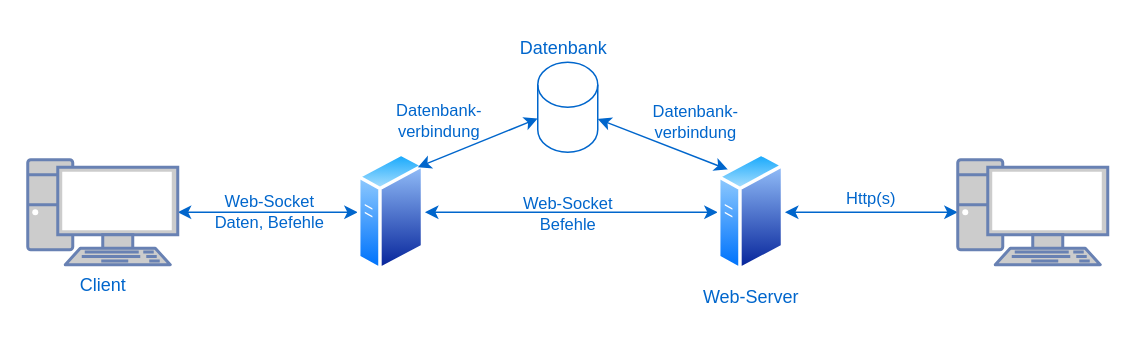
Some shapes in this 1134 by 344 pixel diagram are drawn without their labels. Each missing label, with the box of its shape:
Server: (357, 152, 424, 272)
Web-Client (Administrator): (956, 158, 1108, 266)
